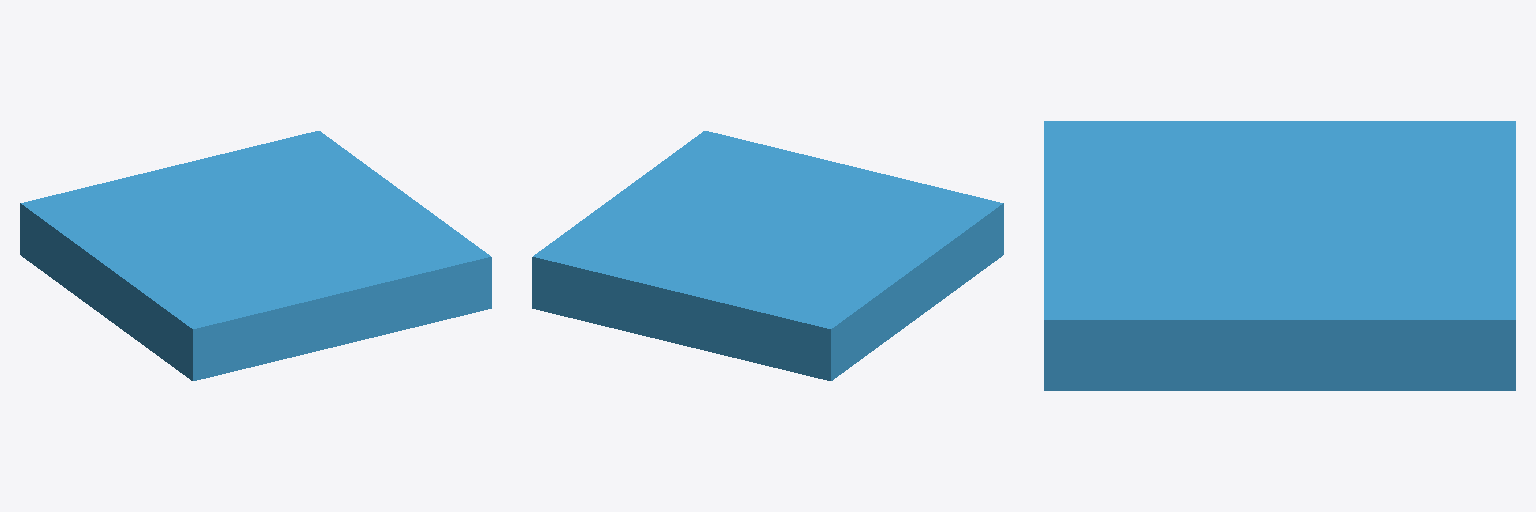
robot.urdf — robot:
<?xml version="1.0"?>
<robot name="robot">

  <link name="root">
    <inertial>
      <mass value="0.1"/>
      <inertia ixx="0.0001" ixy="0.0" ixz="0.0" iyy="0.0001" iyz="0.0" izz="0.0001"/>
    </inertial>
  </link>

  <link name="hand">
    <visual>
      <geometry>
        <box size=".12 .12 0.02"/>
      </geometry>
    </visual>
    <collision>
      <geometry>
        <box size=".12 .12 0.02"/>
      </geometry>
    </collision>
    <inertial>
      <mass value="10"/>
      <inertia ixx="0.195" ixy="0.0" ixz="0.0" iyy="0.195" iyz="0.0" izz="0.375"/>
    </inertial>
  </link>

  <link name="virtual_0">
    <inertial>
      <mass value="0.1"/>
      <inertia ixx="0.0001" ixy="0.0" ixz="0.0" iyy="0.0001" iyz="0.0" izz="0.0001"/>
    </inertial>
  </link>
  <link name="virtual_1">
    <inertial>
      <mass value="0.1"/>
      <inertia ixx="0.0001" ixy="0.0" ixz="0.0" iyy="0.0001" iyz="0.0" izz="0.0001"/>
    </inertial>
  </link>

  <joint name="joint_0" type="prismatic">
    <parent link="root"/>
    <child link="virtual_0"/>
    <axis xyz="0 1 0"/>
    <limit lower="-1" upper="1" effort="1000" velocity="1.0"/>
    <dynamics damping="0.0" friction="0.0"/>
  </joint>

  <joint name="joint_1" type="prismatic">
    <parent link="virtual_0"/>
    <child link="virtual_1"/>
    <axis xyz="0 0 1"/>
    <limit lower="-1" upper="1" effort="1000" velocity="1.0"/>
  </joint>

  <joint name="joint_2" type="revolute">
    <parent link="virtual_1"/>
    <child link="hand"/>
    <axis xyz="1 0 0"/>
    <limit lower="-1.57" upper="1.57" effort="1000" velocity="1.0"/>
  </joint>

</robot>

--- Facts derived from the render (not from the file) ---
3 views of the same robot in one strip: view 1: azimuth 30°, elevation 25°; view 2: azimuth 150°, elevation 25°; view 3: azimuth 270°, elevation 25° (orthographic).
Model robot with 4 links and 3 joints (1 revolute, 2 prismatic), rooted at root, posed all joints at 0.
Visible links, largest first — view 1: hand; view 2: hand; view 3: hand.
Link boxes in pixels (box(x1,y1,x2,y2)): hand: box(20, 131, 491, 380); hand: box(532, 131, 1003, 380); hand: box(1044, 121, 1515, 390).
Bounding box of the posed robot: 0.12 × 0.12 × 0.02 m (x, y, z).
Geometry: primitives only (box / cylinder / sphere), no mesh files.